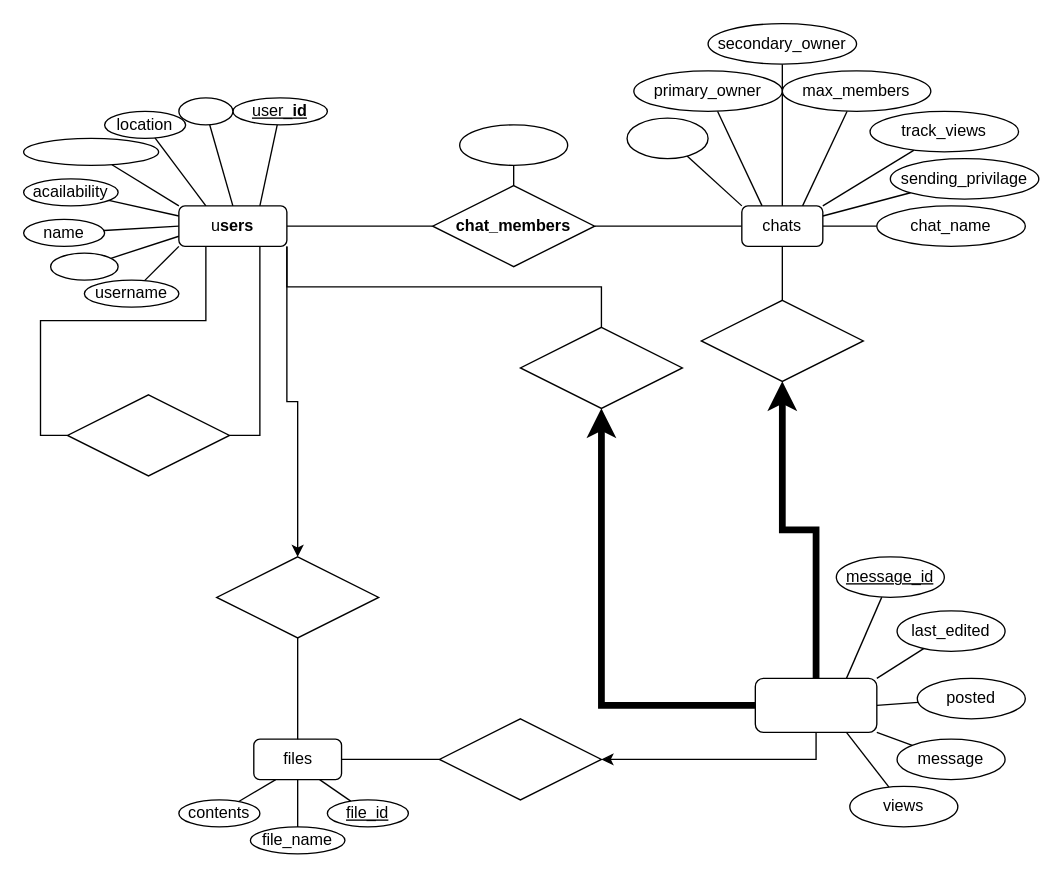
The diagram is 1062 pixels wide and 878 high, and some of its shapes have lost their labels. The centre of each missing label's shape, as x and y in pixels:
"attachment" belongs at point 519,759.
"bio" belongs at point 205,111.
"chat_id" belongs at point 667,138.
"contacts" belongs at point 148,435.
"email" belongs at point 83,266.
"messages" belongs at point 815,704.
"phone_number" belongs at point 90,151.
"privilage" belongs at point 513,144.
"profile_picture" belongs at point 297,597.
"sent_by" belongs at point 600,367.
"sent_in" belongs at point 781,340.
